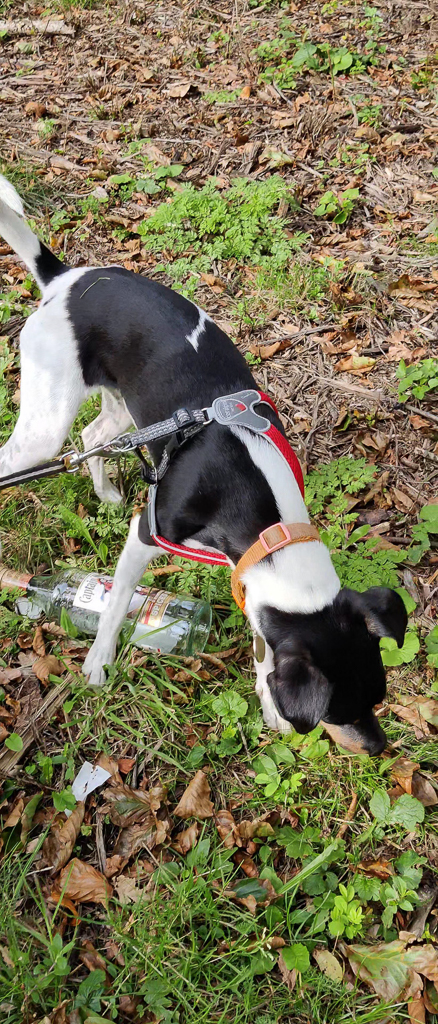Dog: (0, 164, 426, 768)
